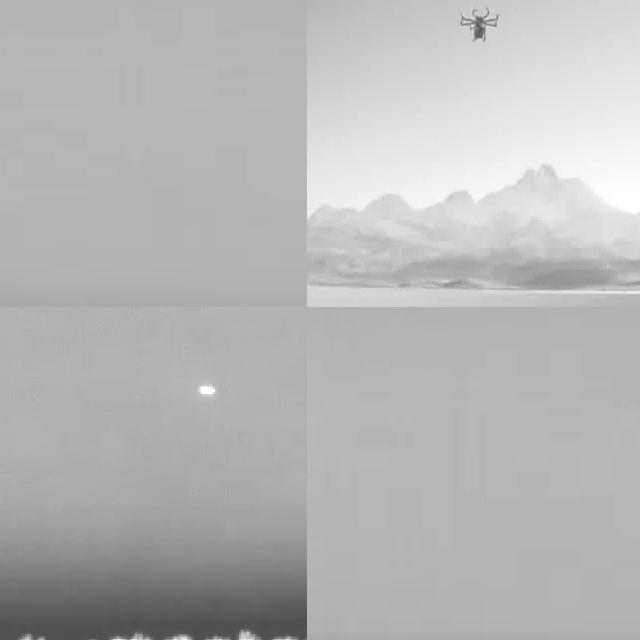1: (189, 378, 227, 410)
drone: (460, 0, 504, 52)
